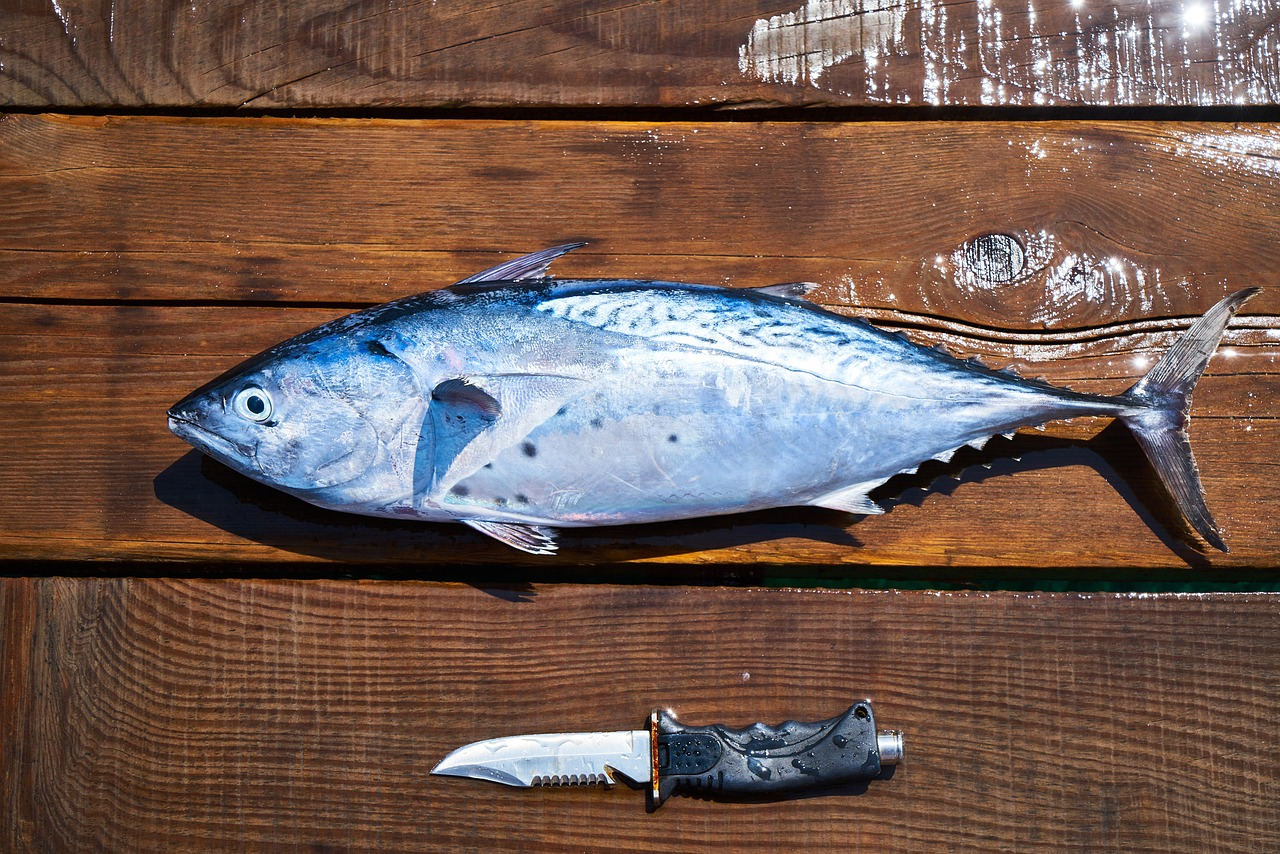knife: (420, 706, 909, 816)
